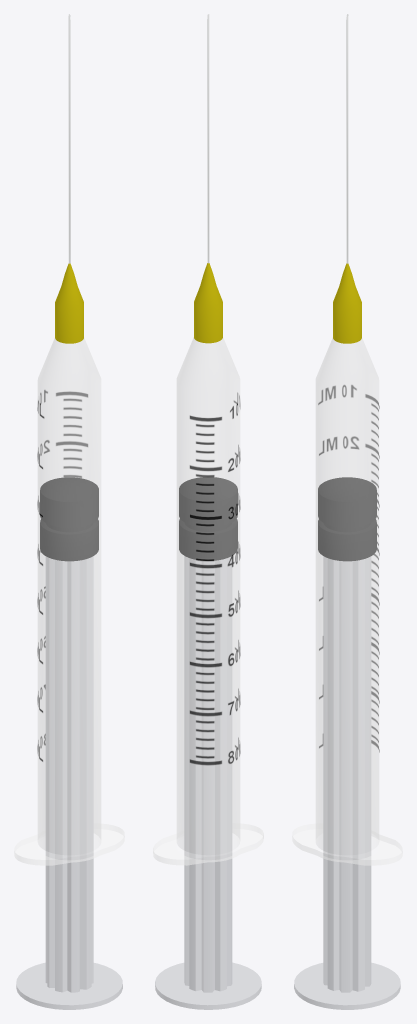
File: syringeorg.glb
3 renders of one model, left to right at view 1: azimuth 30°, elevation 25°; view 2: azimuth 210°, elevation 25°; view 3: azimuth 330°, elevation 25°, orthographic.
Visible parts, largest first — view 1: barrel, plunger, plunger_rubber, adapter, needle; view 2: barrel, plunger, plunger_rubber, adapter, needle; view 3: barrel, plunger, plunger_rubber, adapter, needle.
Part boxes in pixels (box(x1,y1,x2,y2)): barrel: box(14, 338, 124, 865); plunger: box(16, 556, 122, 1009); plunger_rubber: box(40, 477, 98, 561); adapter: box(55, 263, 83, 343); needle: box(68, 14, 70, 263); barrel: box(153, 337, 263, 865); plunger: box(155, 556, 261, 1009); plunger_rubber: box(179, 477, 237, 560); adapter: box(194, 263, 222, 343); needle: box(207, 14, 209, 263); barrel: box(292, 338, 402, 865); plunger: box(294, 556, 400, 1009); plunger_rubber: box(318, 477, 376, 561); adapter: box(333, 263, 361, 343); needle: box(346, 14, 348, 263).
Bounding box in the file's own units: 4.48 × 39.85 × 3.95.
Materials: 5 (5 with a texture image).
